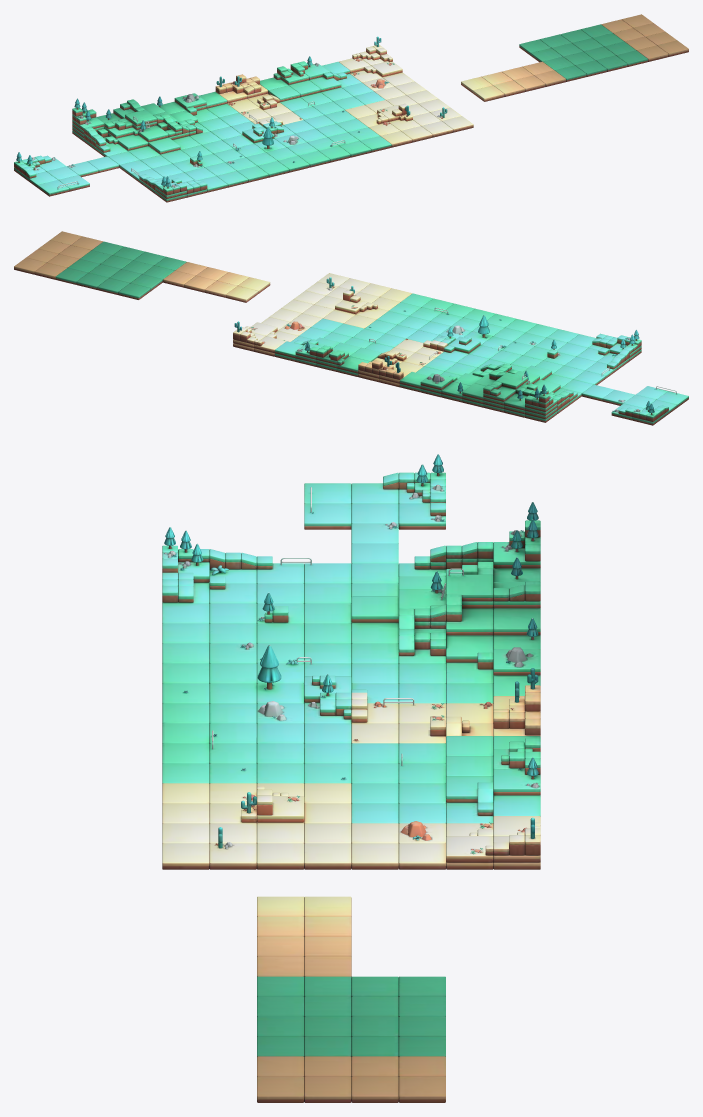
File: map-2-texture-transformed.glb
3 renders of one model, top to bottom at view 1: azimuth 30°, elevation 25°; view 2: azimuth 150°, elevation 25°; view 3: azimuth 270°, elevation 25°, orthographic. The views are drawn at different scales.
Visible parts, largest first — view 1: tileLarge_forest.445; view 2: tileLarge_forest.445; view 3: tileLarge_forest.445.
Part boxes in pixels (x1,y1,x2,y2): tileLarge_forest.445: (14,14,688,202); tileLarge_forest.445: (14,231,688,425); tileLarge_forest.445: (162,454,540,1102).
Bounding box in the file's own units: 184 × 10 × 48.
Materials: 1 (1 with a texture image).
